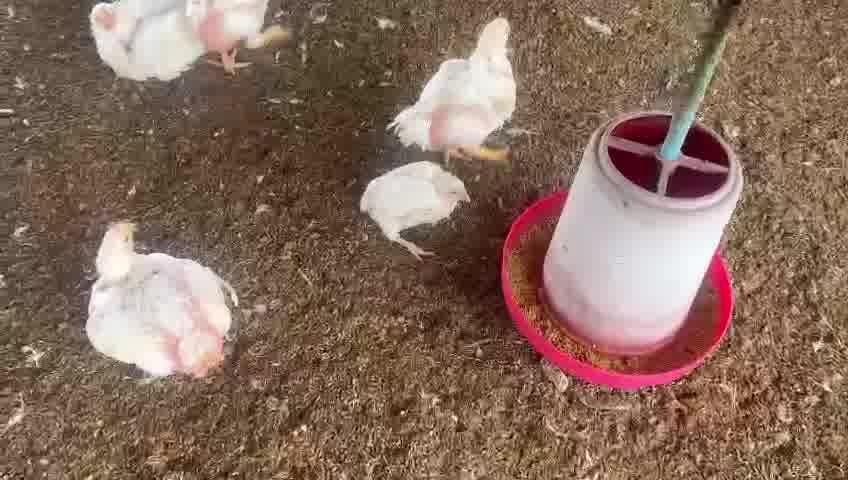AbNormal: (88, 224, 231, 382), (365, 164, 470, 258), (89, 4, 209, 78)
Normal: (400, 21, 517, 163), (191, 2, 293, 71)
